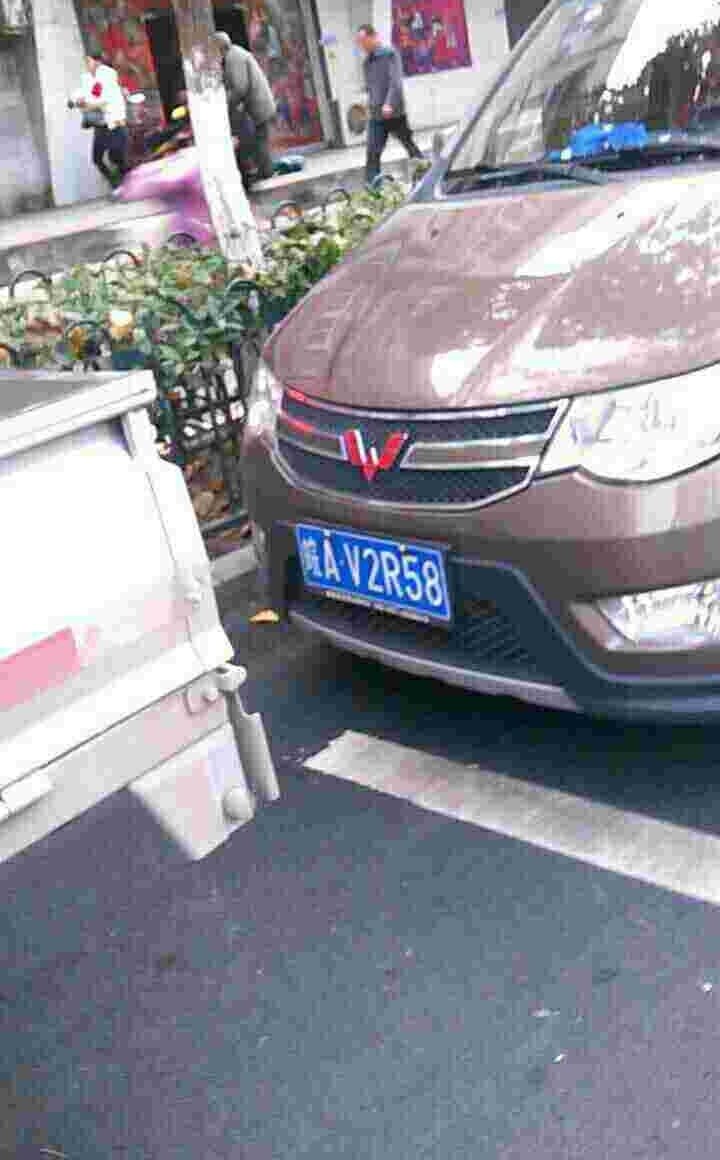license_plate: (293, 523, 453, 625)
